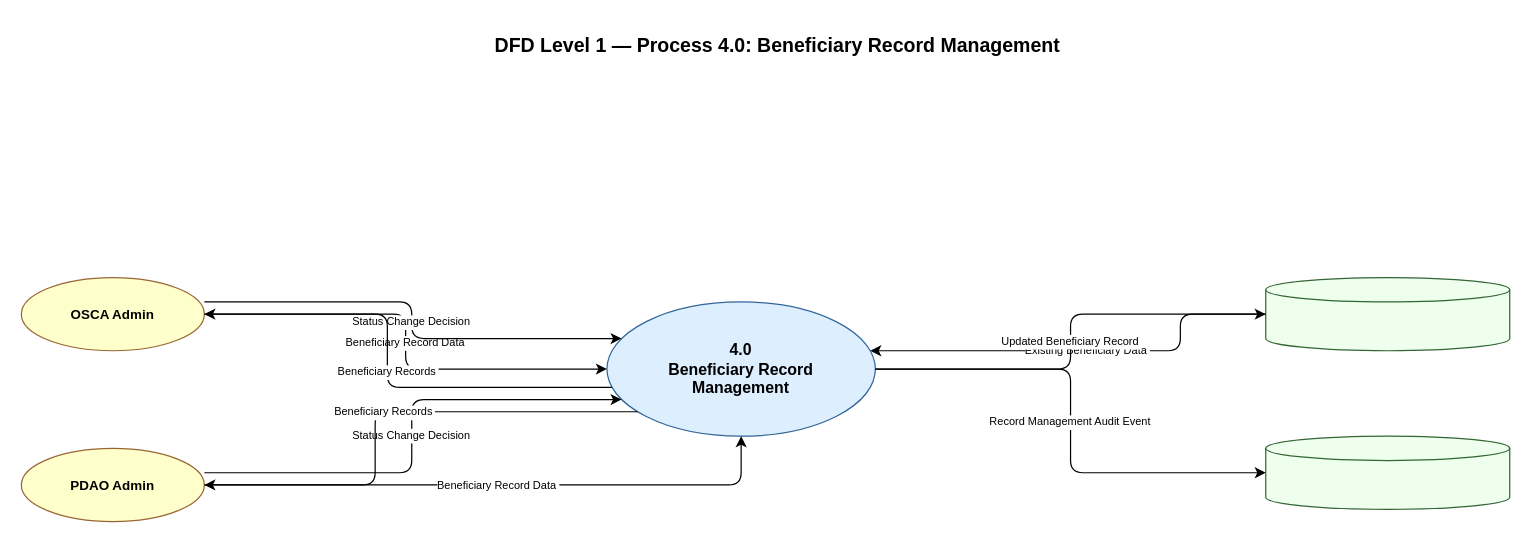
Some shapes in this 1531 by 543 pixel diagram are drawn without their labels. Each missing label, with the box of its shape:
D3: beneficiaries: (1265, 276, 1510, 351)
D9: audit_logs: (1265, 435, 1510, 509)
